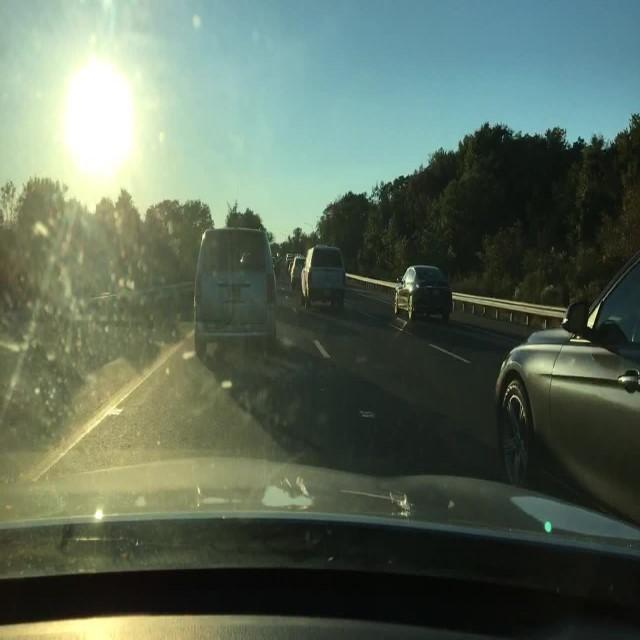normal: (169, 183, 364, 376), (390, 243, 469, 343)
